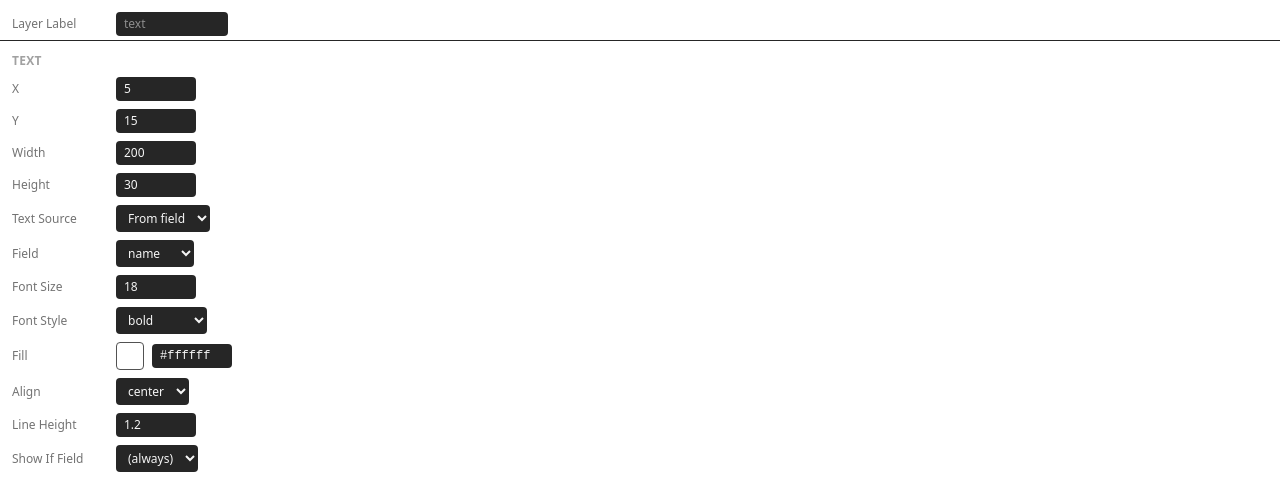
Test case: PropertiesPanel — text layer › switching text source to "static" shows static text input and hides field dropdown
Select "Static text" in the dropdown named "text source" at (163, 218), box 116,205 -> 210,232
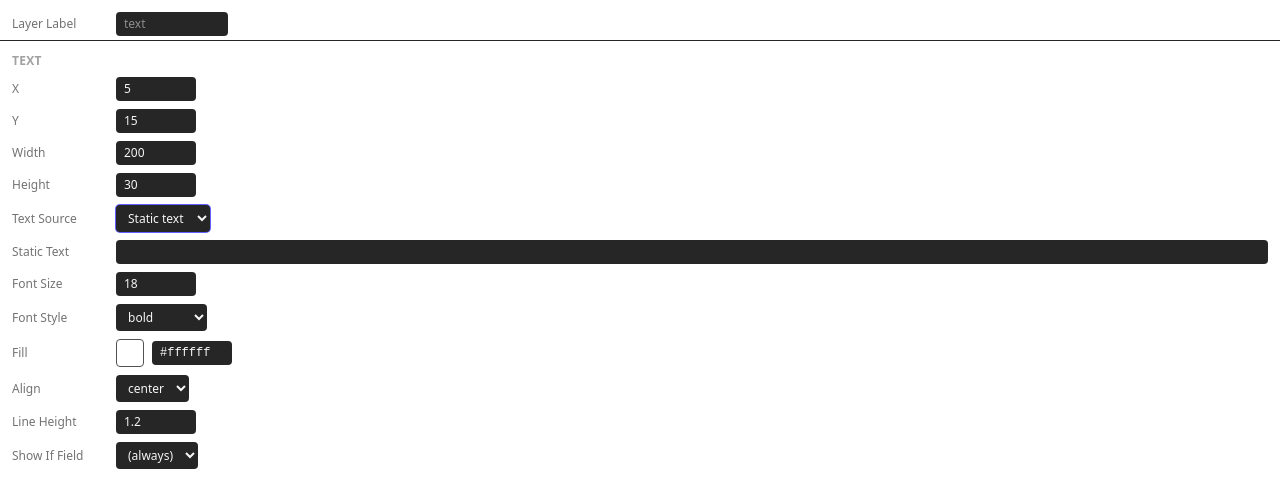
Expected: the field named "static text" is shown, 116,240 -> 1268,264
